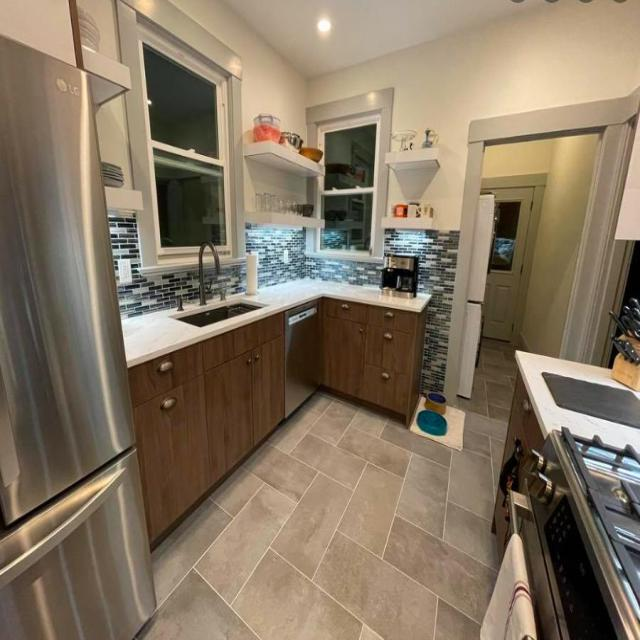dishwasher: (283, 298, 320, 421)
